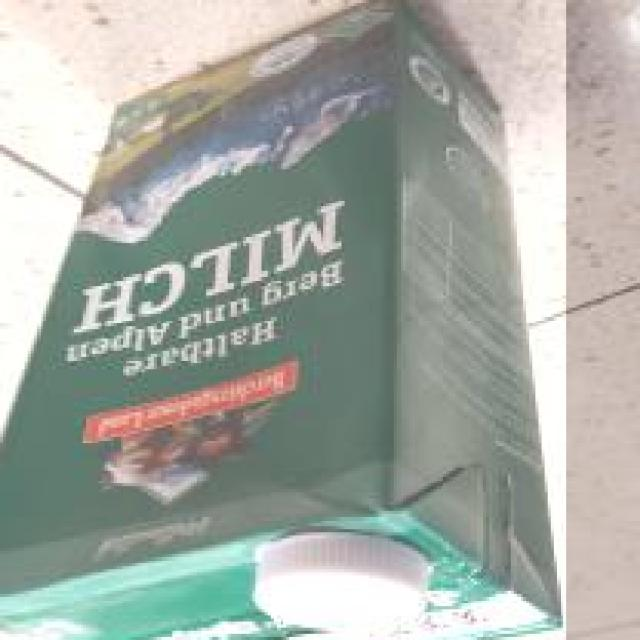milk: (0, 0, 566, 640)
